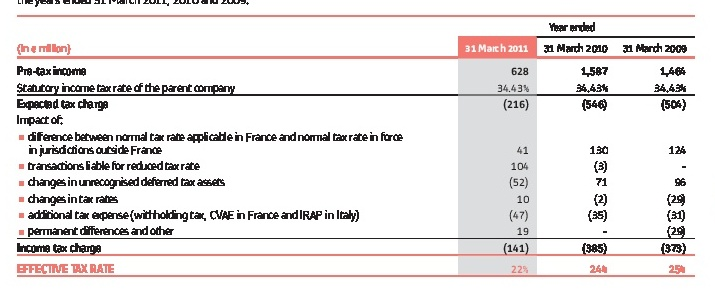table: (0, 0, 715, 297)
